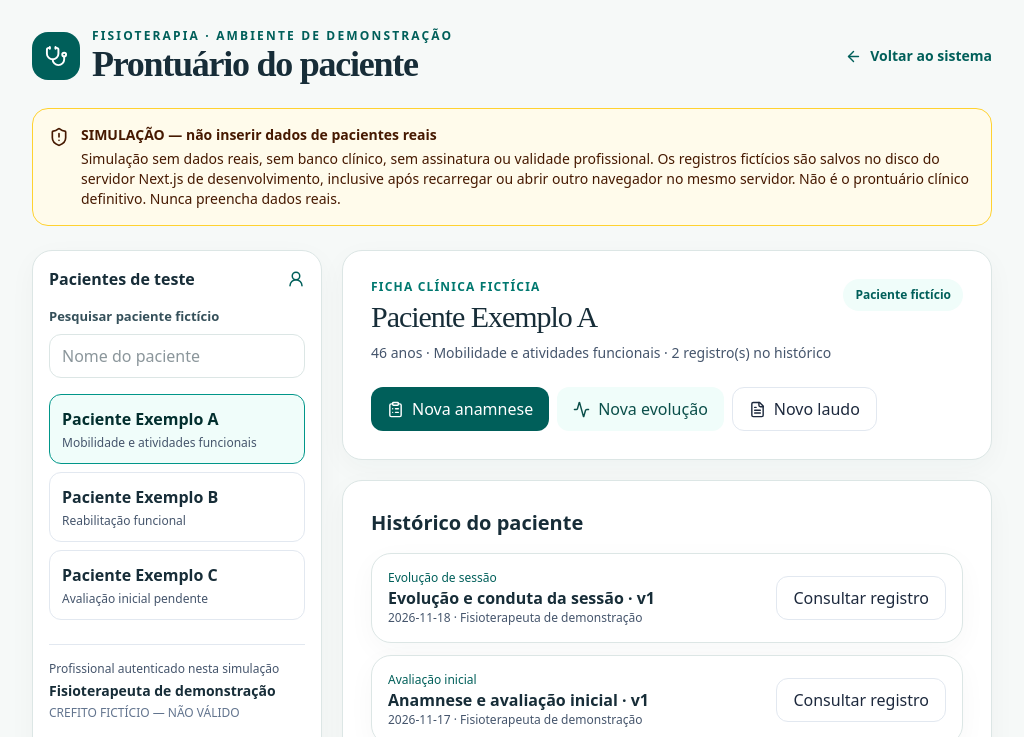
tela de treinamento da fisioterapeuta › trocar paciente nao mistura historicos
Expected: the heading "Prontuário do paciente" is shown, 92,44 -> 453,84
Step 1. Click the button "Paciente Exemplo C Avaliação inicial pendente" → point(177, 584), box 49,550 -> 305,620
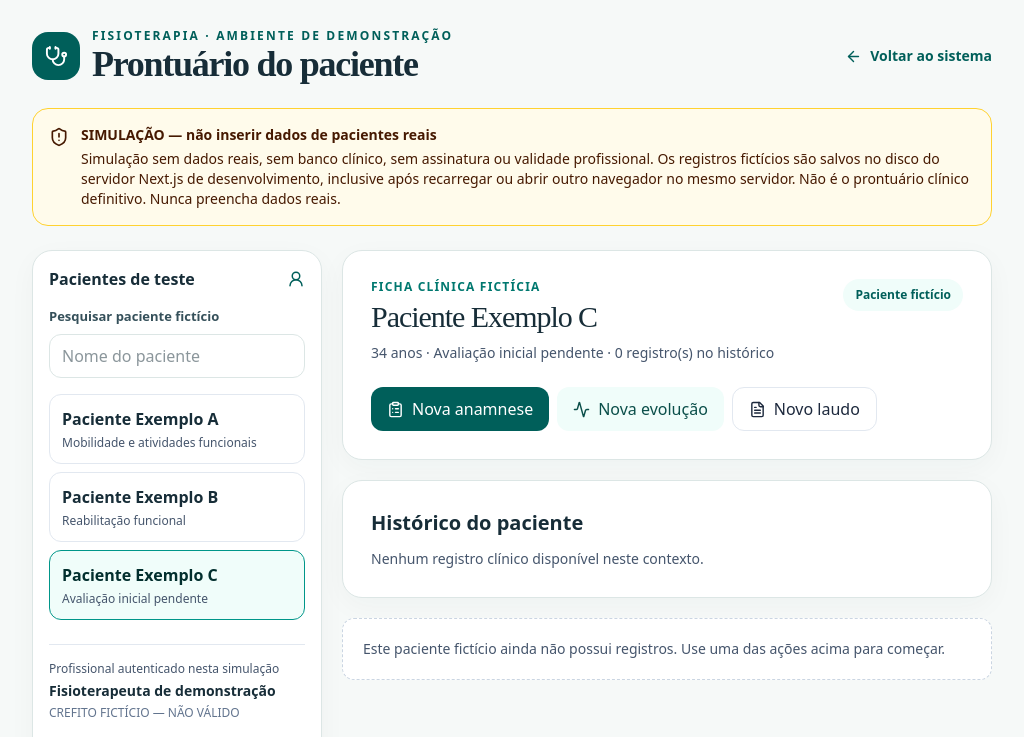
Expected: the text "Este paciente fictício ainda não possui registros. Use uma das ações acima para começar." is shown, 363,639 -> 945,658
Expected: the text "Evolução e conduta da sessão · v1" is gone
